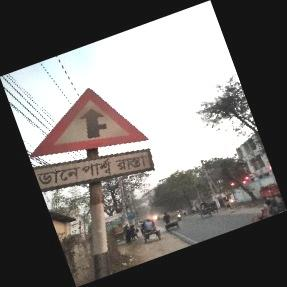Side-road-right: (30, 88, 153, 193)
